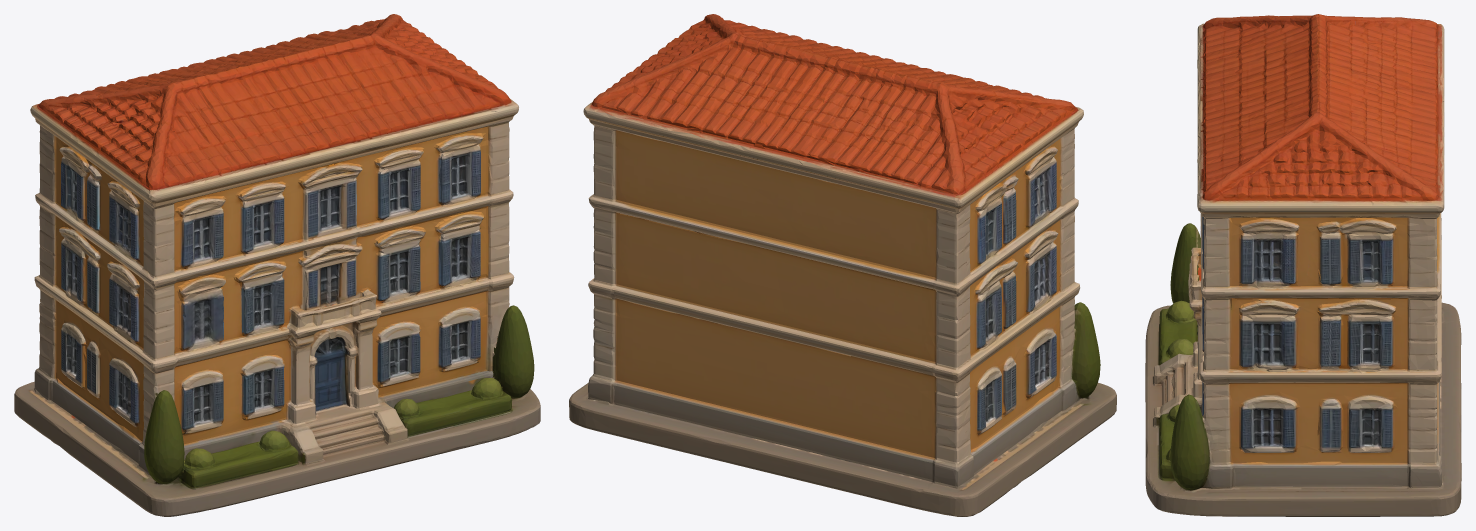
Rendered from home-school.glb.
3 renders of one model, left to right at view 1: azimuth 30°, elevation 25°; view 2: azimuth 150°, elevation 25°; view 3: azimuth 270°, elevation 25°, orthographic. The views are drawn at different scales.
Parts seen in each view (by area): view 1: textured_mesh.obj; view 2: textured_mesh.obj; view 3: textured_mesh.obj.
Boxes of the visible parts, <box> form: textured_mesh.obj: <box>14,14,540,516</box>; textured_mesh.obj: <box>569,14,1116,516</box>; textured_mesh.obj: <box>1145,14,1461,516</box>.
Bounding box in the file's own units: 1.99 × 1.69 × 1.36.
Materials: 1 (1 with a texture image).
